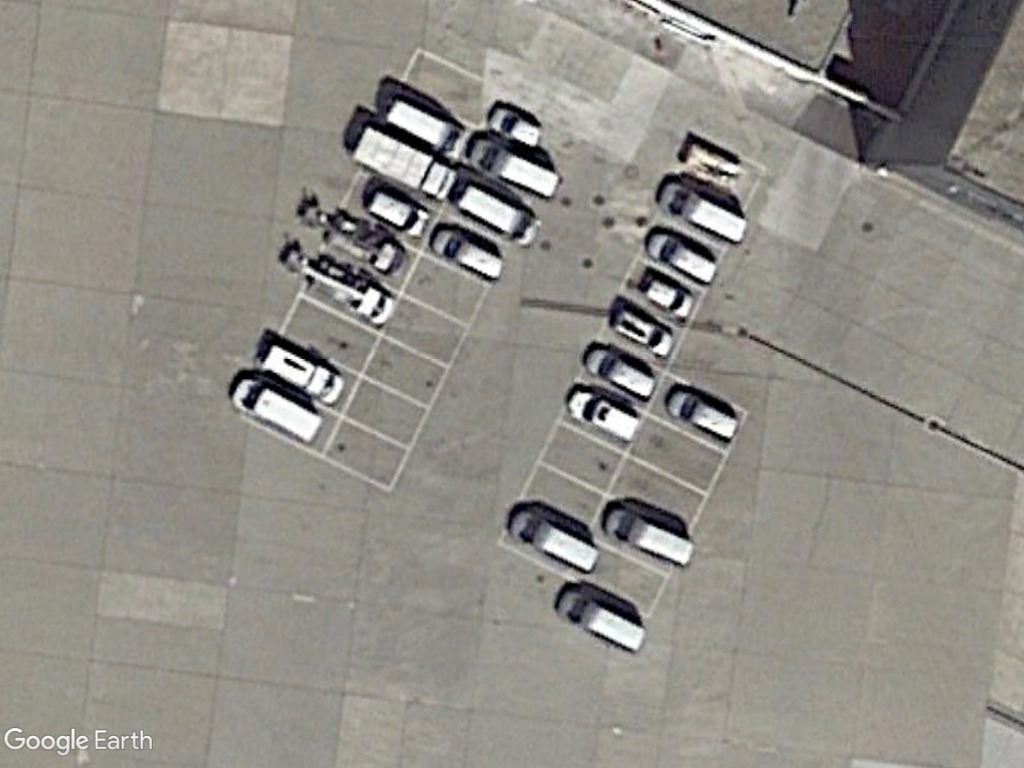car: (610, 302, 676, 360), (635, 269, 700, 320), (485, 102, 547, 151)
truck: (349, 120, 460, 207), (254, 342, 349, 411)
van: (651, 176, 754, 251), (505, 502, 603, 577), (555, 580, 649, 657), (230, 375, 327, 449), (463, 134, 570, 200), (380, 92, 476, 165), (603, 502, 699, 573), (454, 180, 547, 249), (432, 223, 511, 285), (642, 227, 722, 286), (582, 342, 659, 403), (665, 381, 739, 444), (565, 385, 644, 443), (366, 182, 429, 241)
